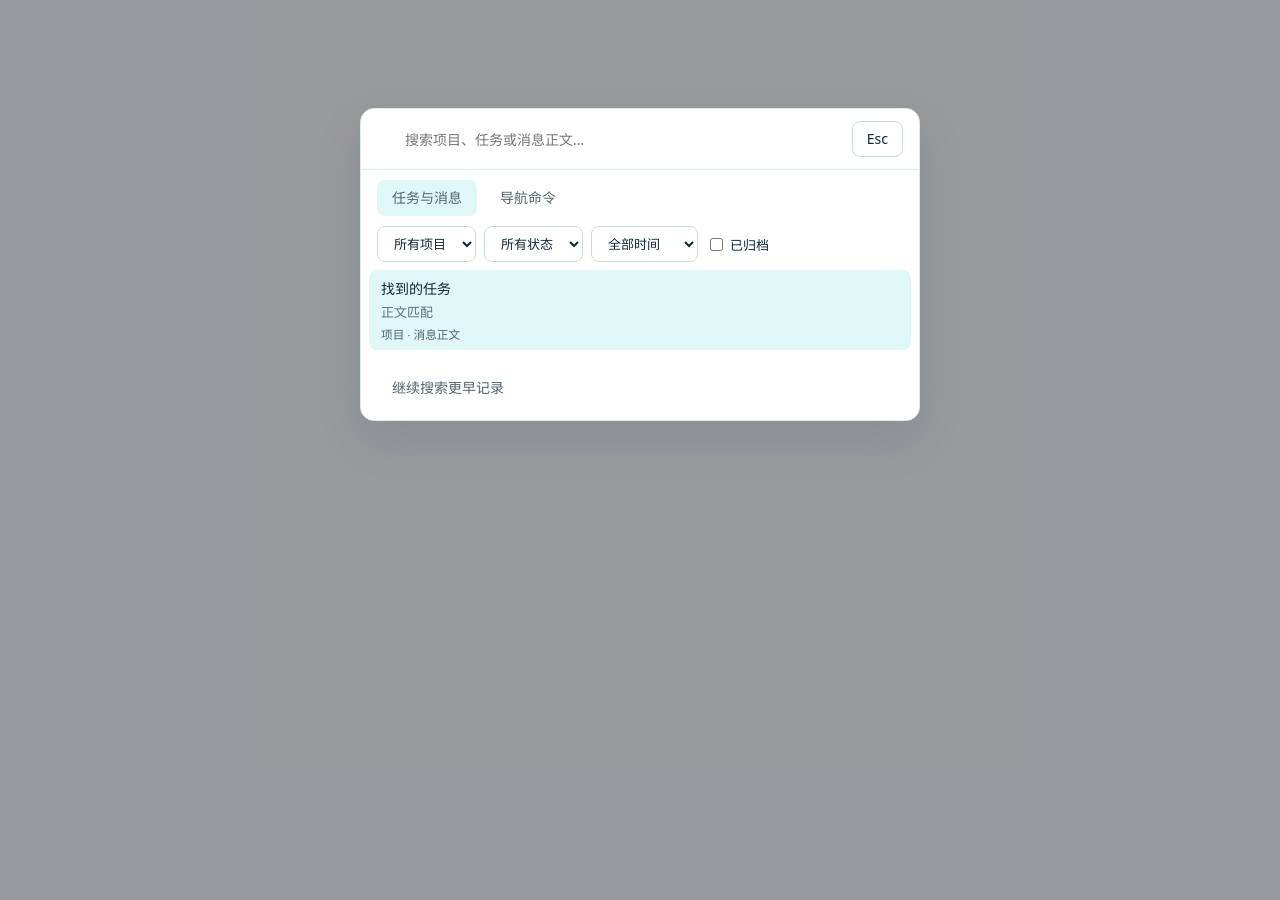
任务与消息检索 › 继续检索保留当前结果并携带游标
Click the button "继续搜索更早记录". click: [448, 388]
box: [377, 370, 519, 406]
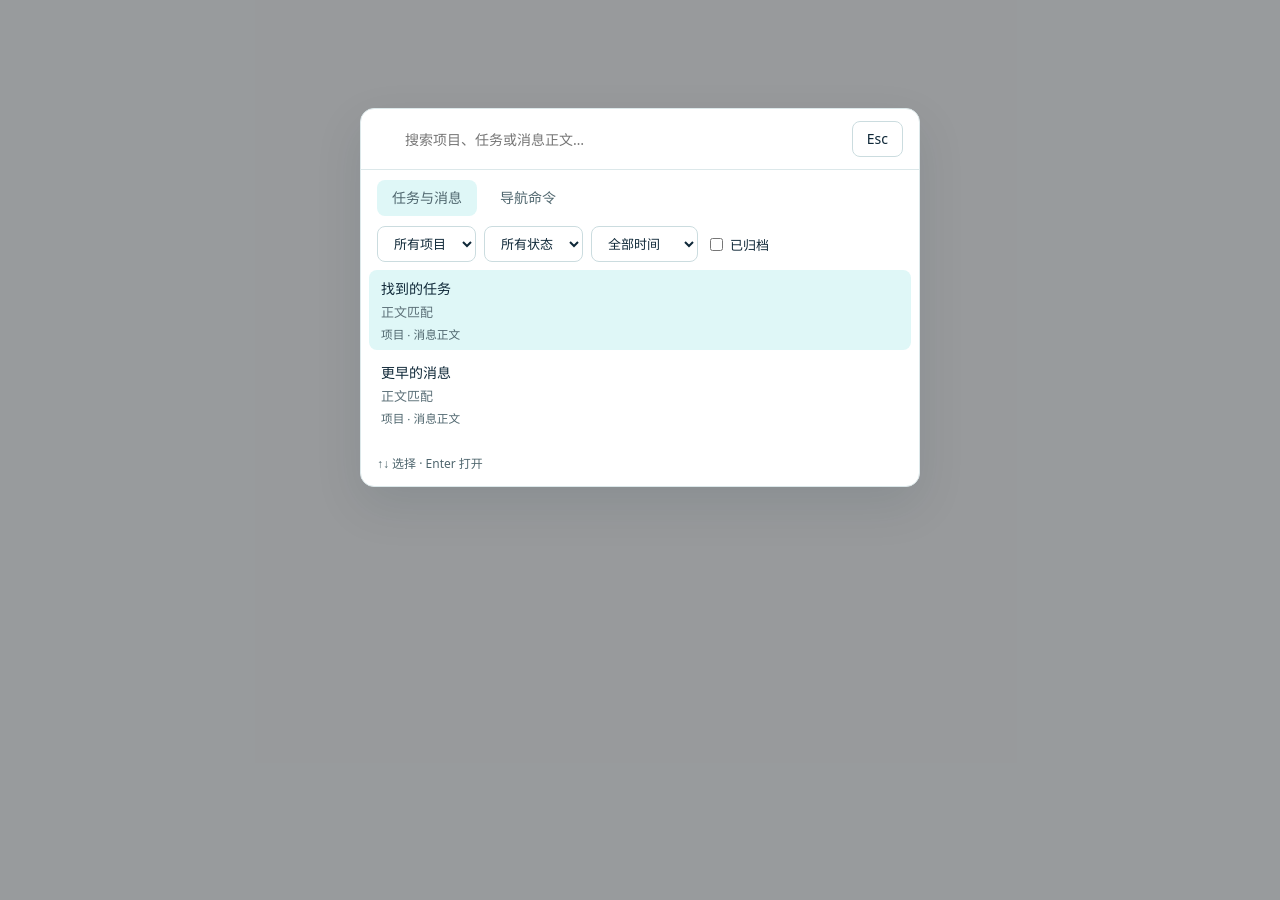
Expected: the number of buttons with class "cp-result" is 2, [369, 270, 911, 350]; [369, 354, 911, 434]
